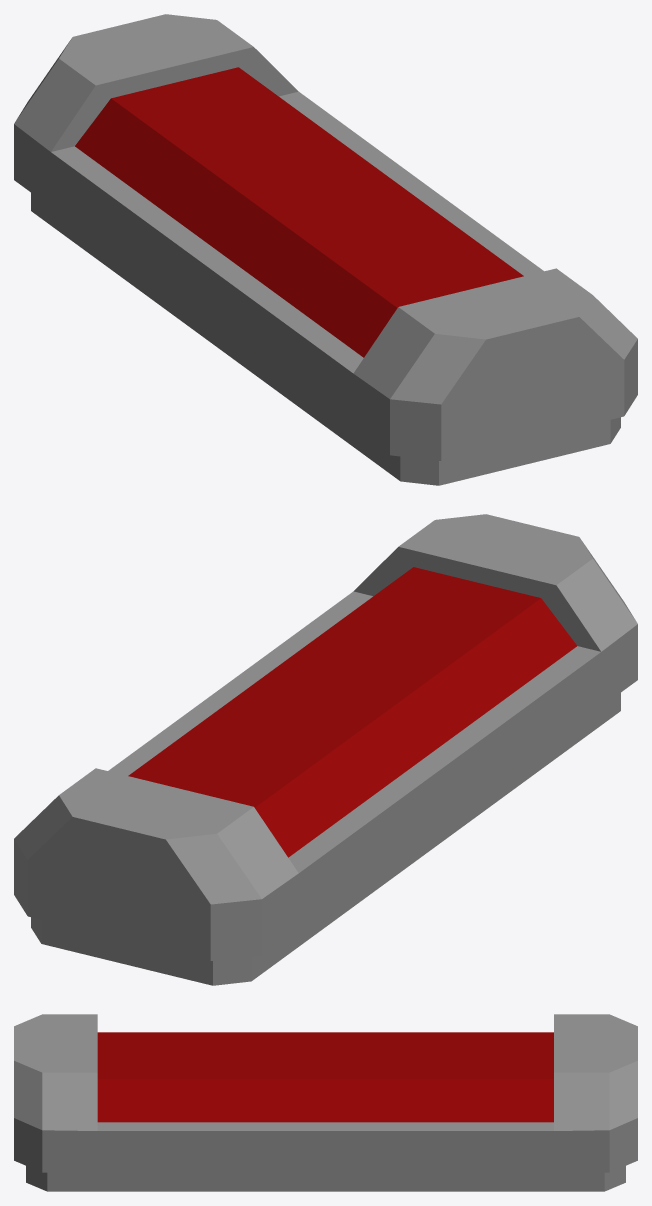
Rendered from M_prop_Lamp_standard.FBX.
The picture shows the model from 3 angles, top to bottom: view 1: azimuth 30°, elevation 25°; view 2: azimuth 150°, elevation 25°; view 3: azimuth 270°, elevation 25°; orthographic projection. The views are drawn at different scales.
Parts seen in each view (by area): view 1: M_prop_Lamp_standard; view 2: M_prop_Lamp_standard; view 3: M_prop_Lamp_standard.
Boxes of the visible parts, bbox=[...] form: M_prop_Lamp_standard: bbox=[14, 14, 637, 485]; M_prop_Lamp_standard: bbox=[14, 514, 637, 985]; M_prop_Lamp_standard: bbox=[14, 1014, 637, 1191].
Bounding box in the file's own units: 67.61 × 195 × 37.13.
